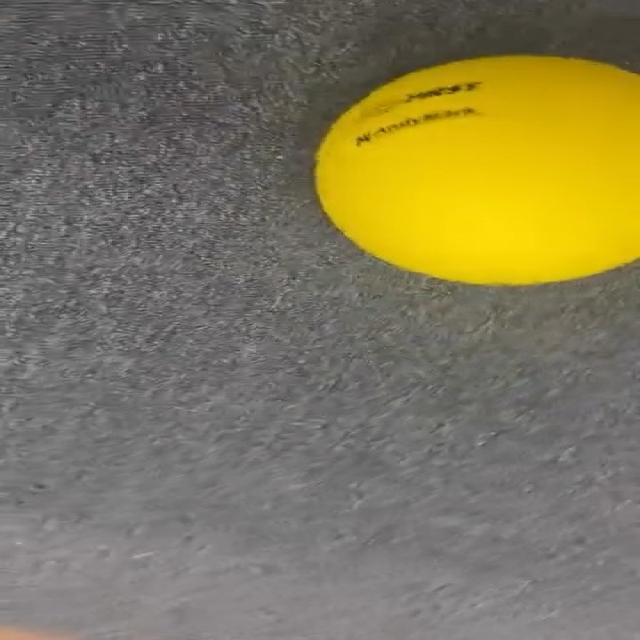Fuels: (318, 57, 636, 284)
